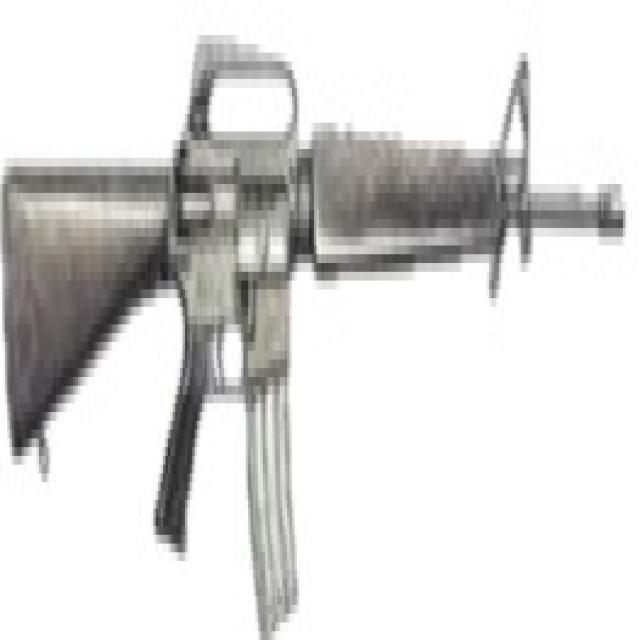rifle: (1, 17, 629, 640)
